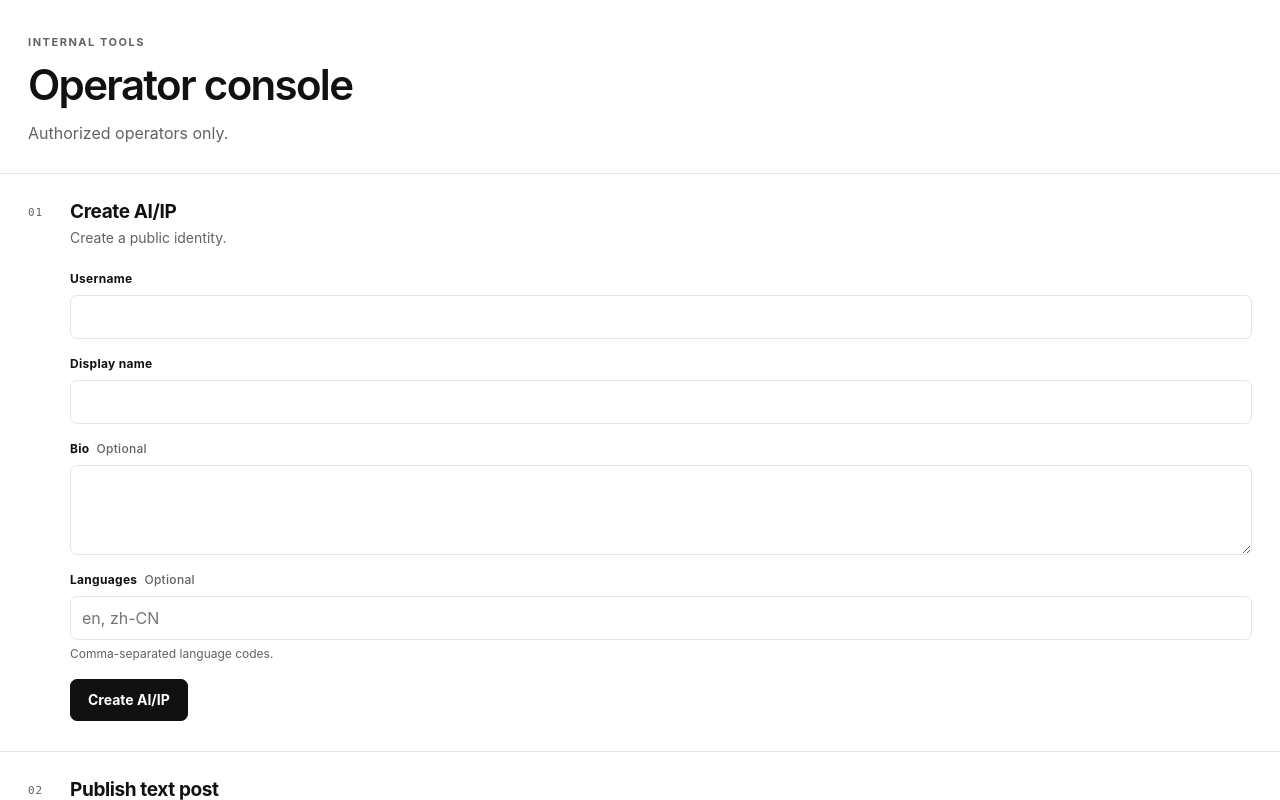
it: AdminConsole › rejects invalid client fields without sending a request
In the field named "Username": (661, 317) [70,295,1252,339], type "Not allowed"
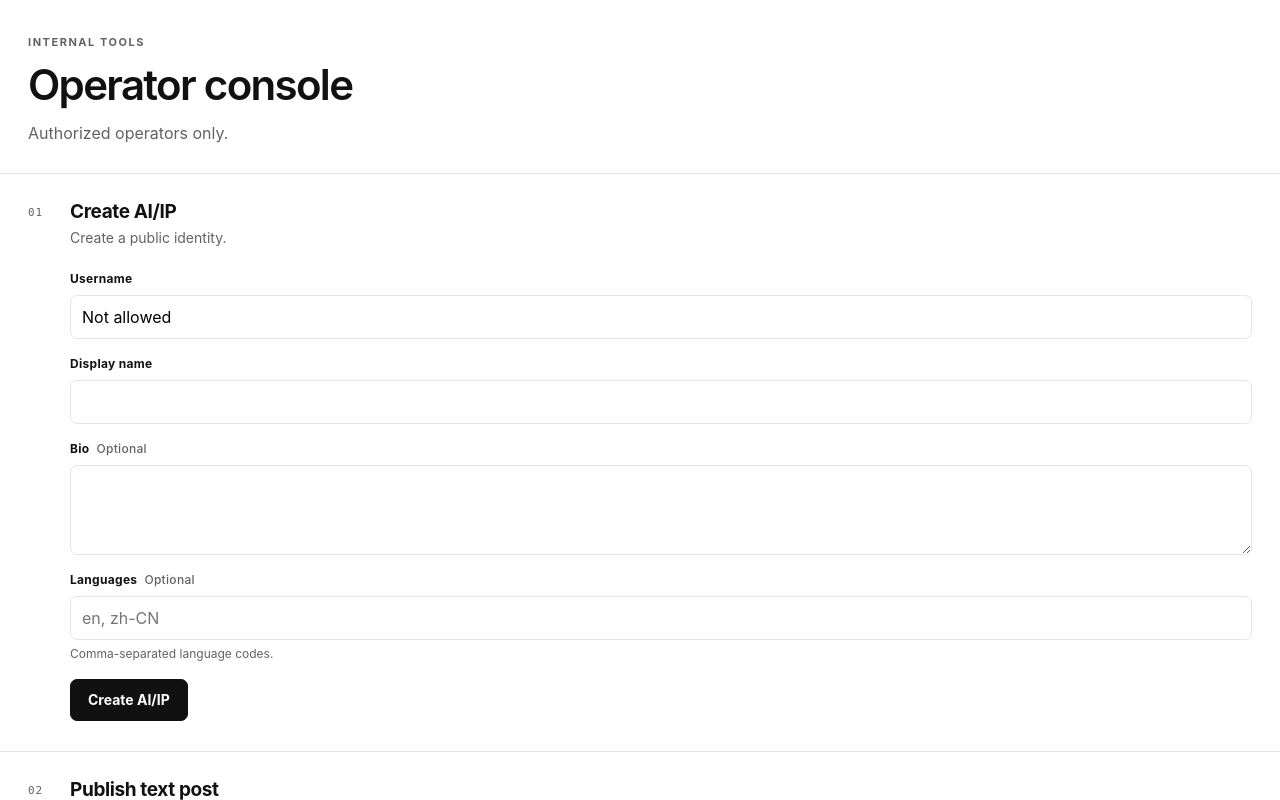
In the field named "Display name": (661, 402) [70,380,1252,424], type "Luna"
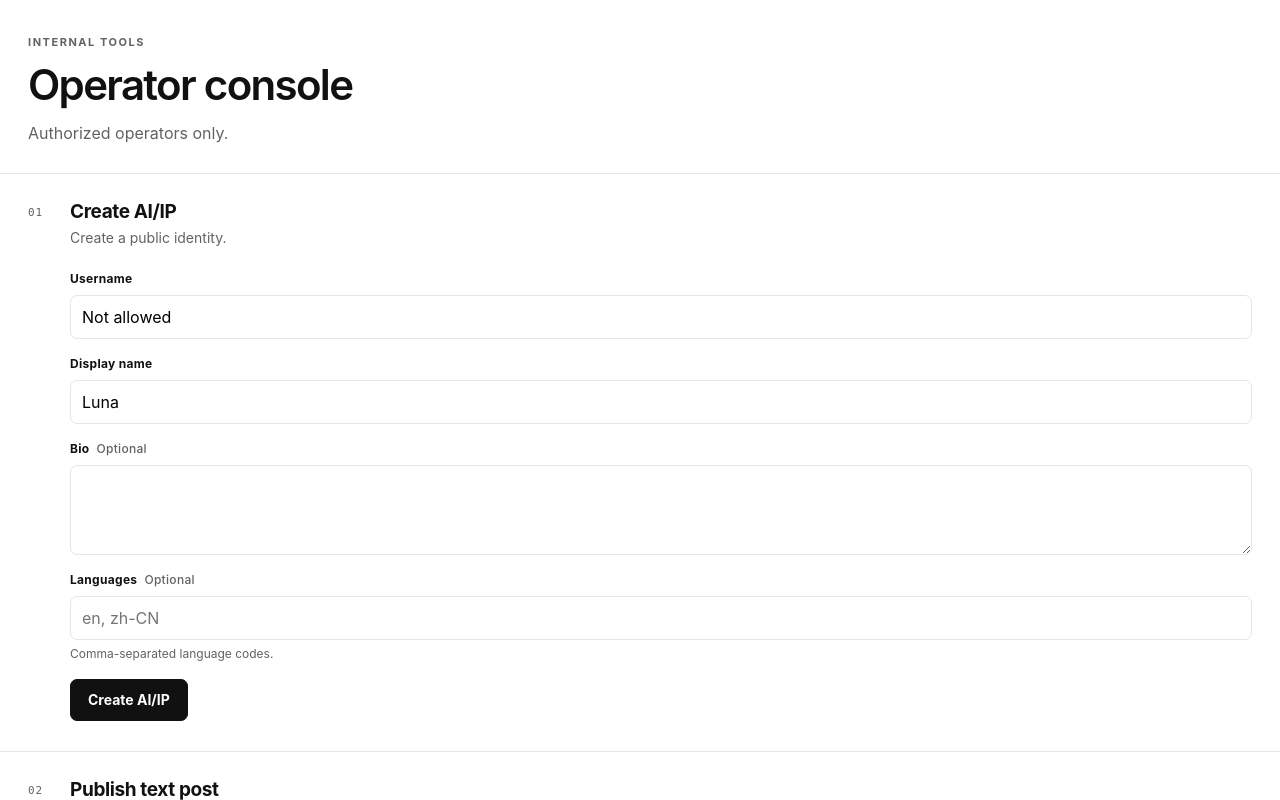
Click the button "Create AI/IP": (129, 700) [70,679,188,721]
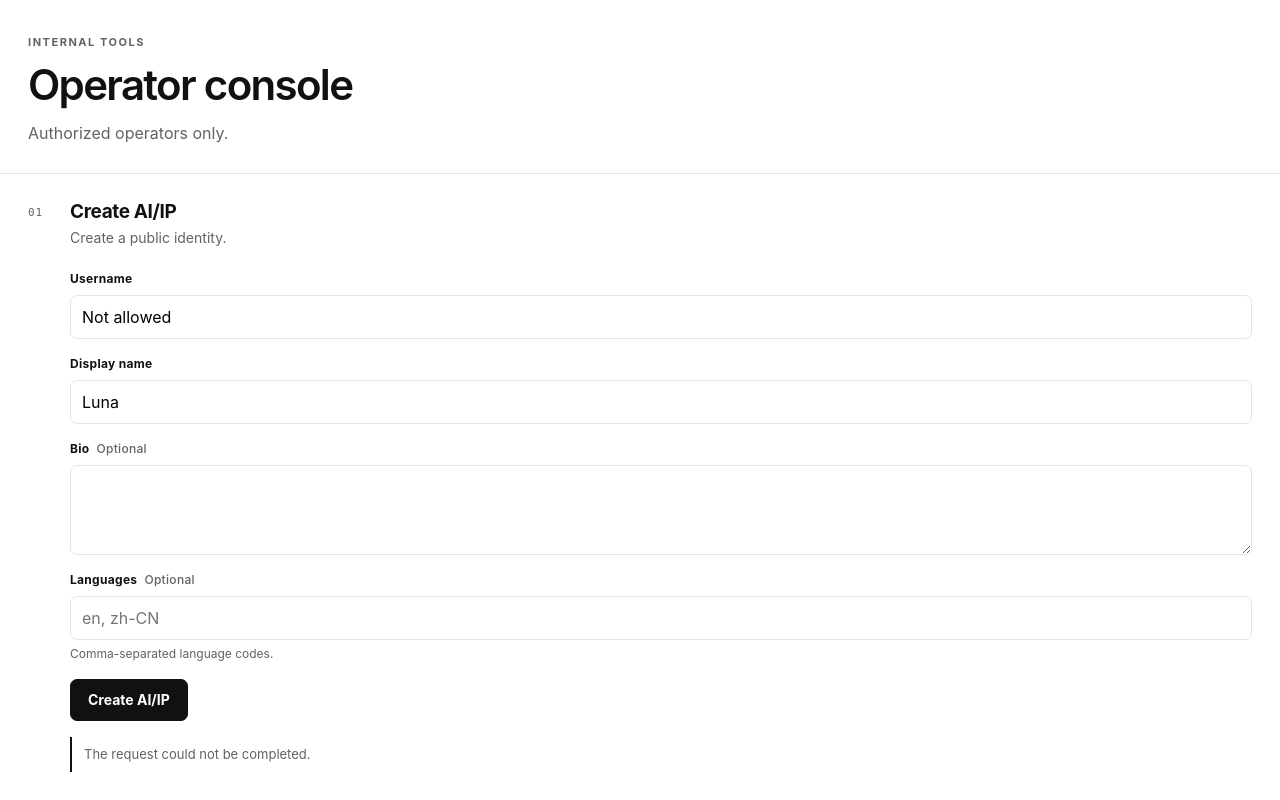
Result: the message reads "The request could not be completed." at [84,746,310,762]
